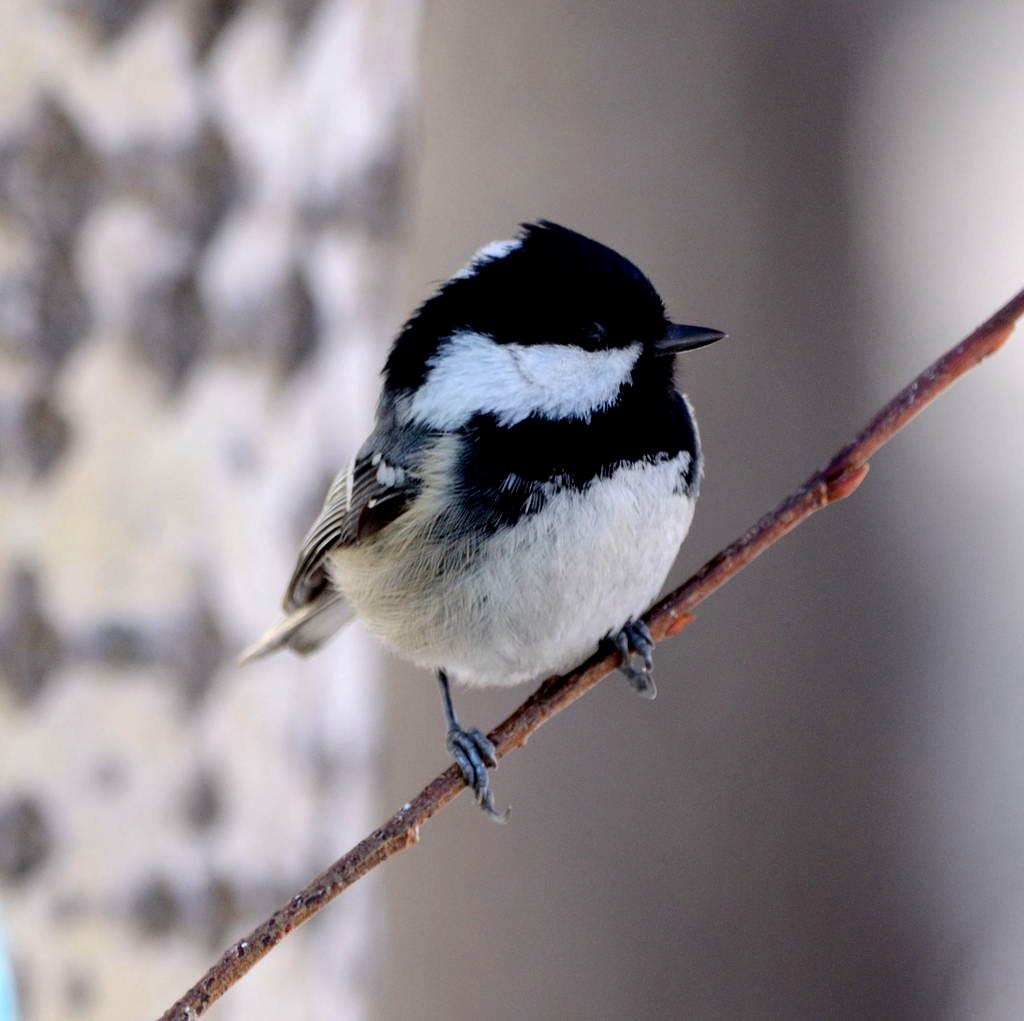PeriparusAter: (233, 213, 730, 829)
